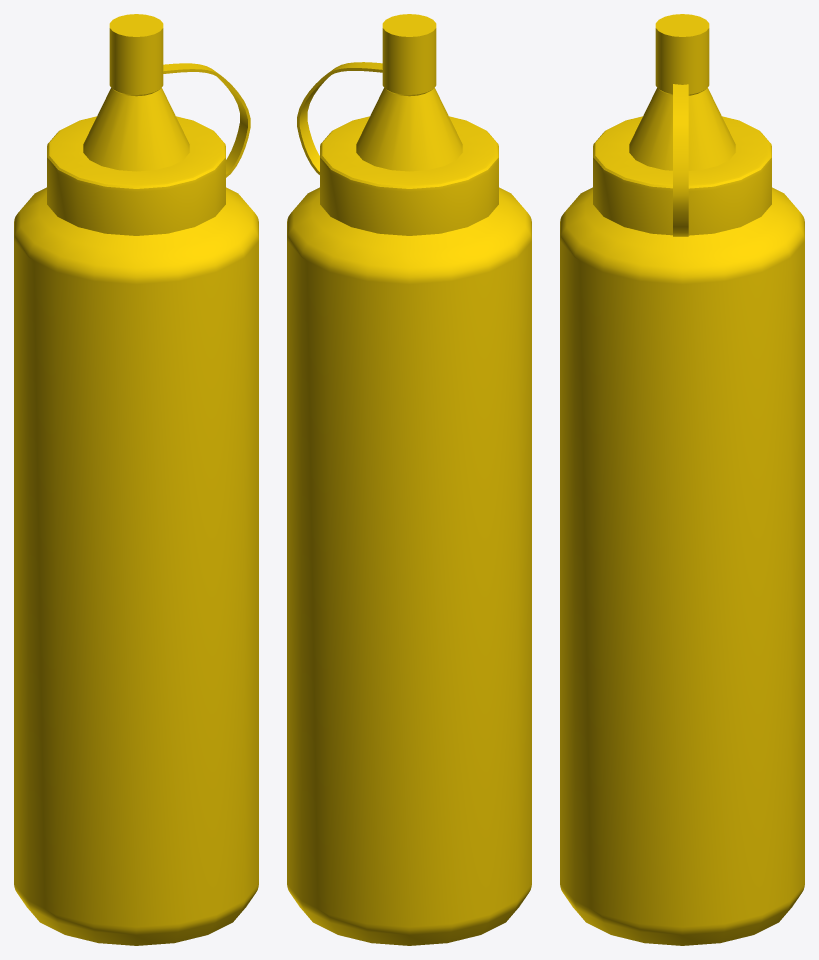
File: Mustard.FBX
3 views of the same model, side by side, from view 1: azimuth 30°, elevation 25°; view 2: azimuth 150°, elevation 25°; view 3: azimuth 270°, elevation 25° (orthographic).
Visible parts, largest first — view 1: Mustard; view 2: Mustard; view 3: Mustard.
Boxes of the visible parts, left/top/right/bottom form: Mustard: left=14, top=14, right=258, bottom=945; Mustard: left=287, top=14, right=531, bottom=945; Mustard: left=560, top=14, right=804, bottom=945.
Size of the model in its own units: 7.94 by 30.5 by 7.76.
Materials: 1 (1 with a texture image).
